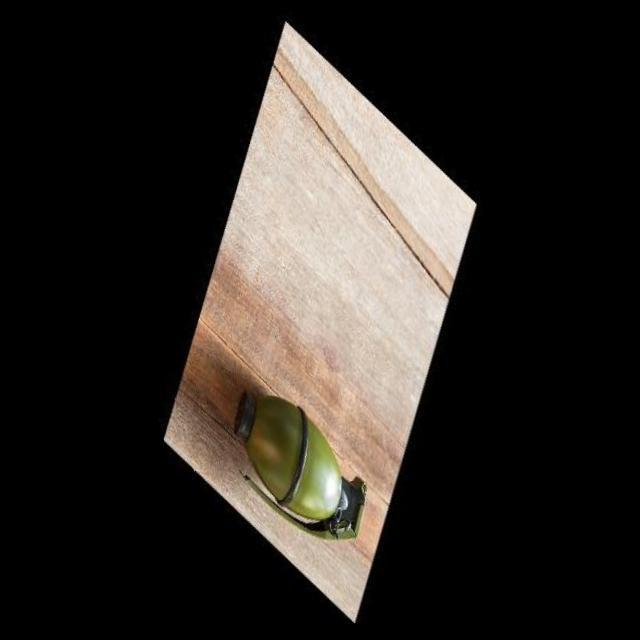grenade: (215, 357, 386, 568)
